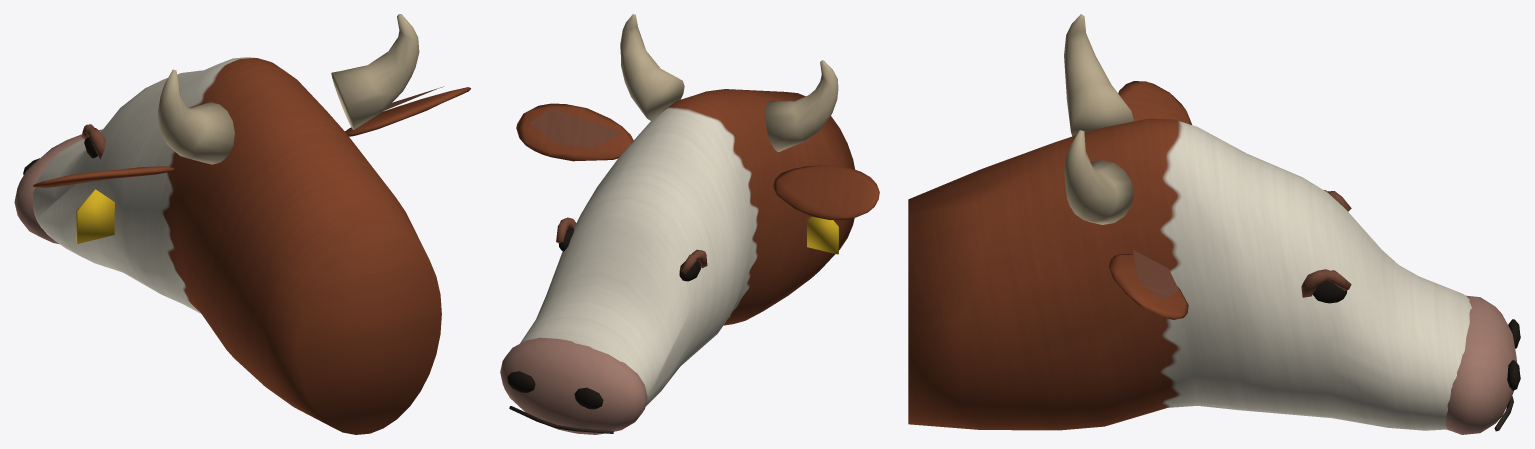
Rendered from SM_Cow_Alive_Head_LOD2.fbx.
3 renders of one model, left to right at view 1: azimuth 30°, elevation 25°; view 2: azimuth 150°, elevation 25°; view 3: azimuth 270°, elevation 25°, orthographic. The views are drawn at different scales.
Parts seen in each view (by area): view 1: SM_Cow_Alive_Head_LOD2; view 2: SM_Cow_Alive_Head_LOD2; view 3: SM_Cow_Alive_Head_LOD2.
Part boxes in pixels (x1,y1,x2,y2): SM_Cow_Alive_Head_LOD2: [14, 14, 470, 434]; SM_Cow_Alive_Head_LOD2: [500, 14, 879, 434]; SM_Cow_Alive_Head_LOD2: [908, 14, 1520, 434].
Size of the model in its own units: 1.01 by 1.2 by 0.762.
